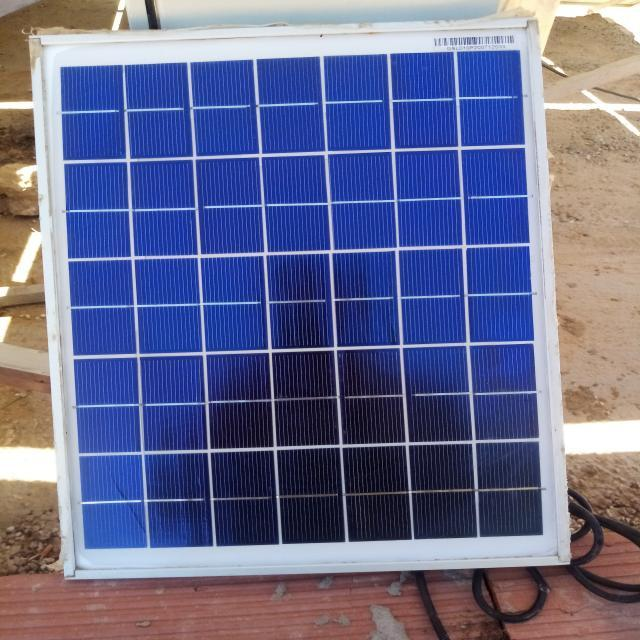no faulty: (35, 26, 570, 574)
